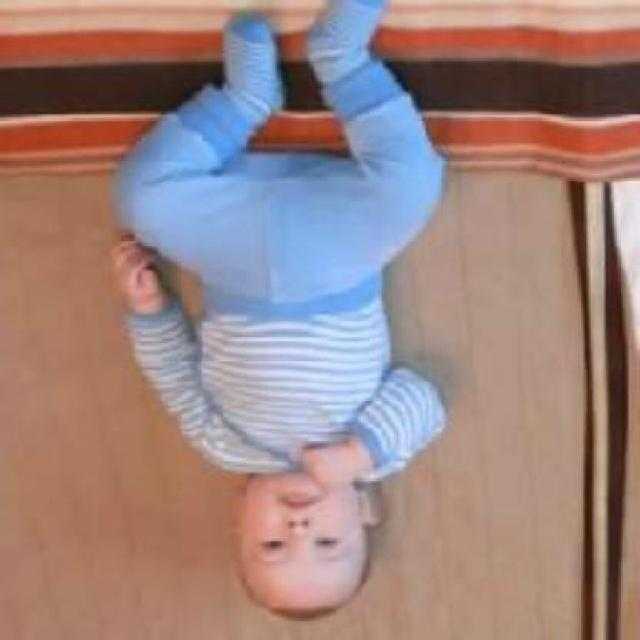baby: (106, 1, 449, 622)
